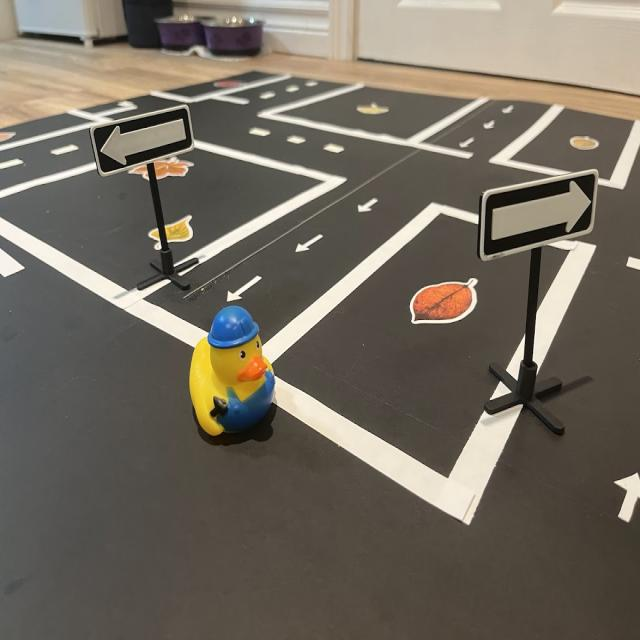duck_specialty: (188, 308, 282, 445)
road_oneway: (610, 458, 640, 538), (226, 270, 267, 308), (295, 233, 331, 260), (356, 194, 381, 222), (455, 135, 481, 151), (480, 116, 500, 134), (502, 104, 524, 116)
sign_oneway_left: (94, 105, 196, 176)
sign_oneway_right: (479, 171, 599, 260)
